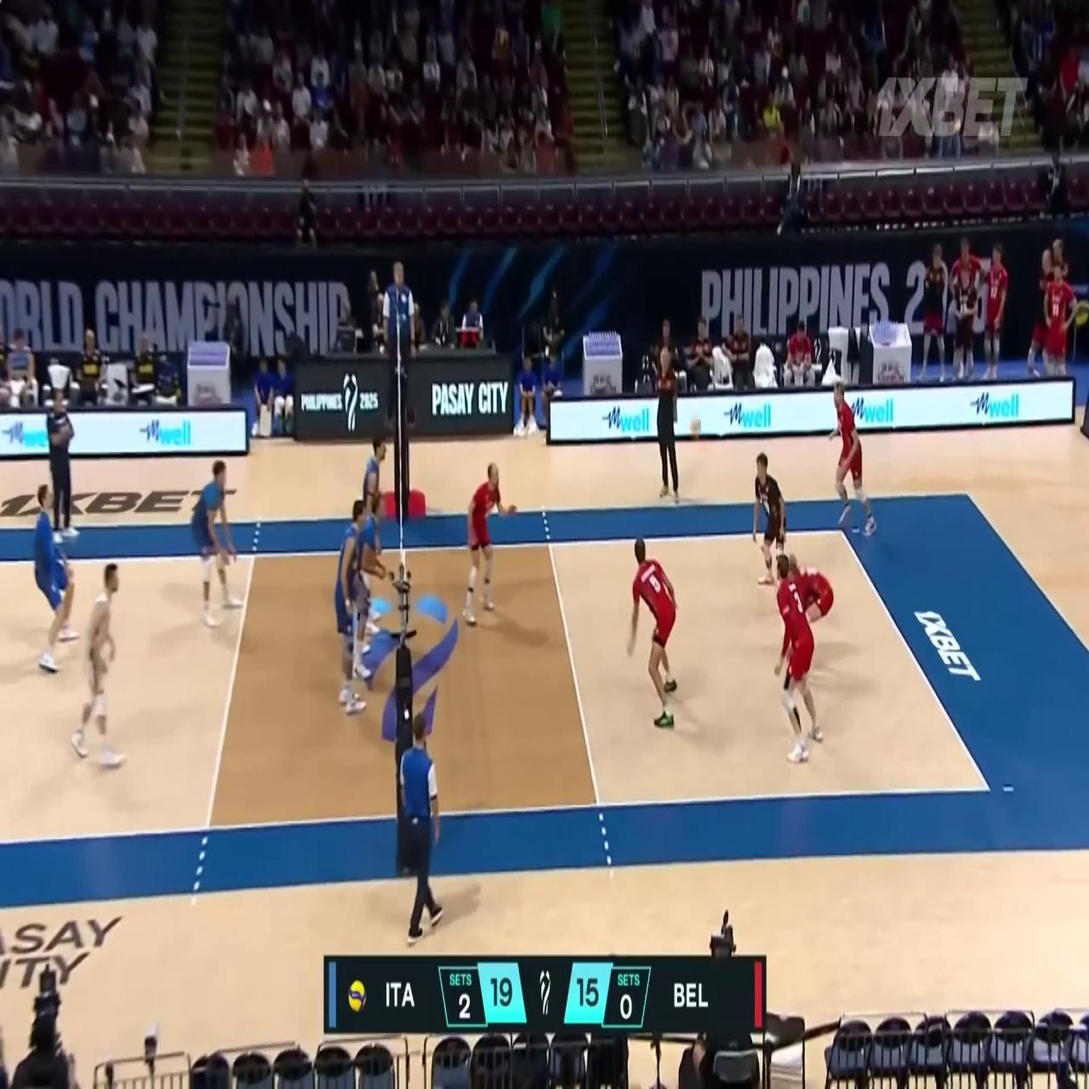ball: (690, 418, 701, 438)
